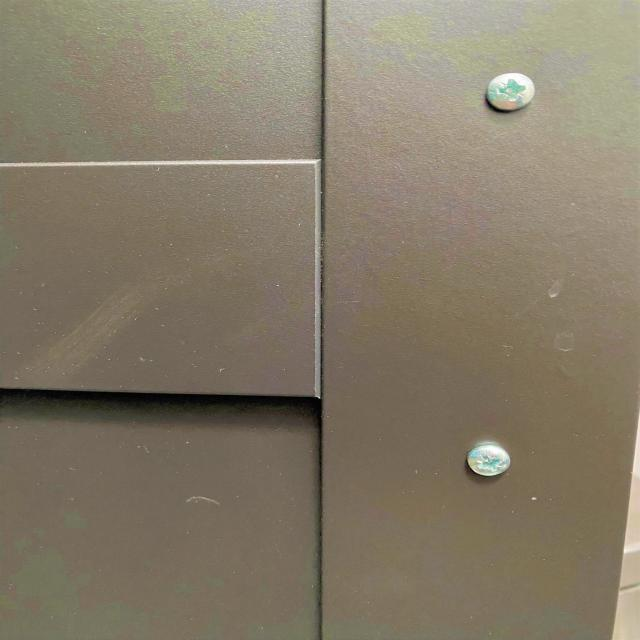PhillipsScrewHead: (489, 72, 535, 110), (468, 444, 512, 478)
